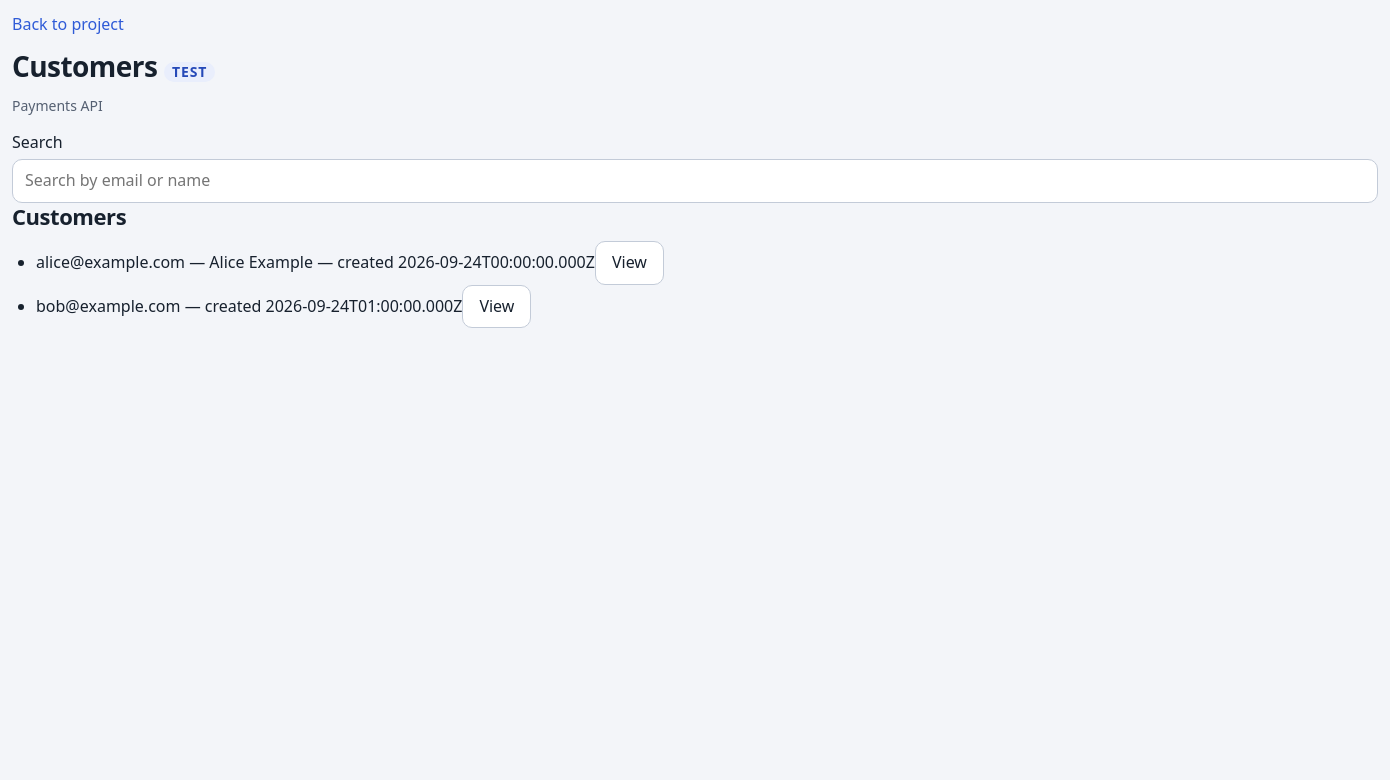
Test: customers page (phase 6 §5.1) › member role sees the list and detail but no create/delete controls (capability-based UI)
Expected: the heading "Customers TEST" is shown, x1=12 y1=47 x2=215 y2=85
Expected: the text "alice@example.com" is shown, x1=36 y1=251 x2=185 y2=273
// Read-only detail stays available (the API enforces anyway).
Click the button "View" in the row of "alice@example.com": x=629, y=263 x1=595 y1=241 x2=664 y2=285
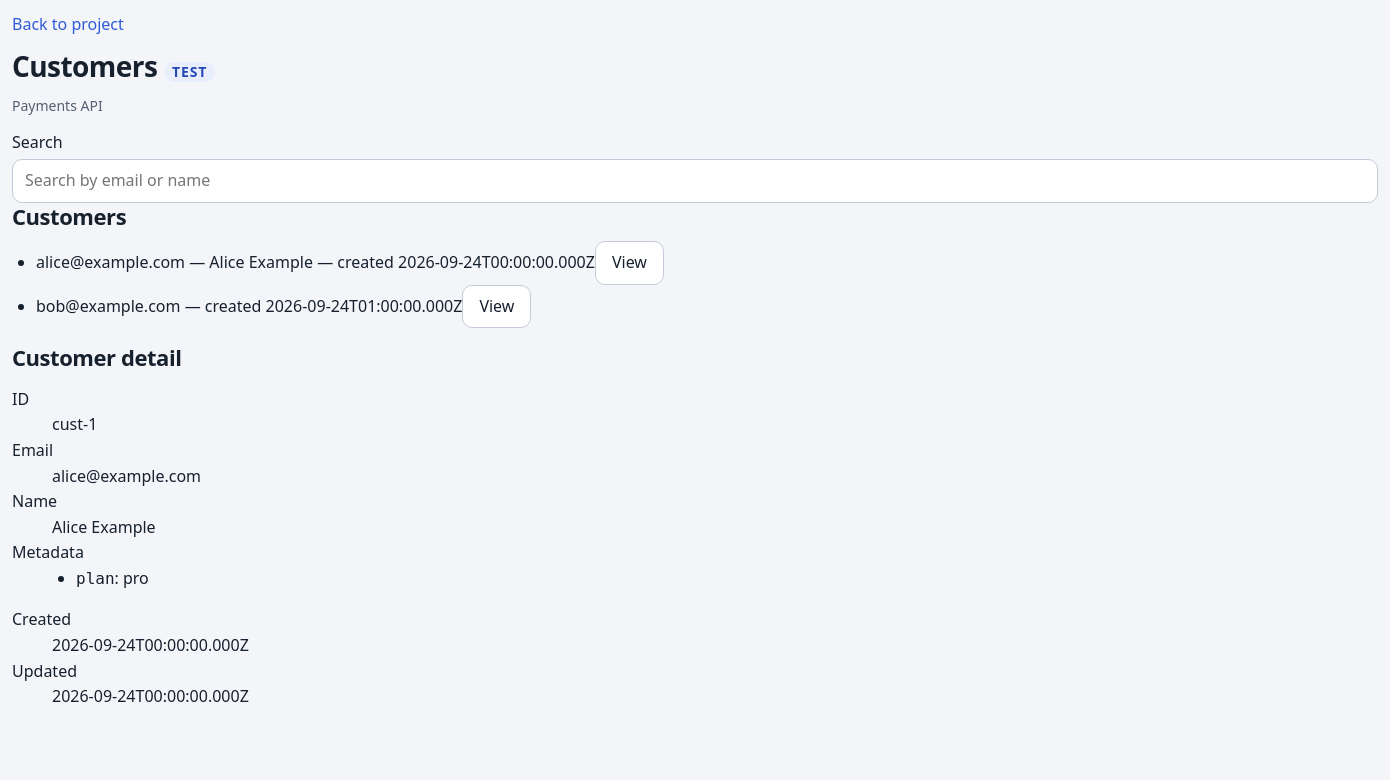
Now the heading "Customer detail" is shown, box x1=12 y1=342 x2=182 y2=372
